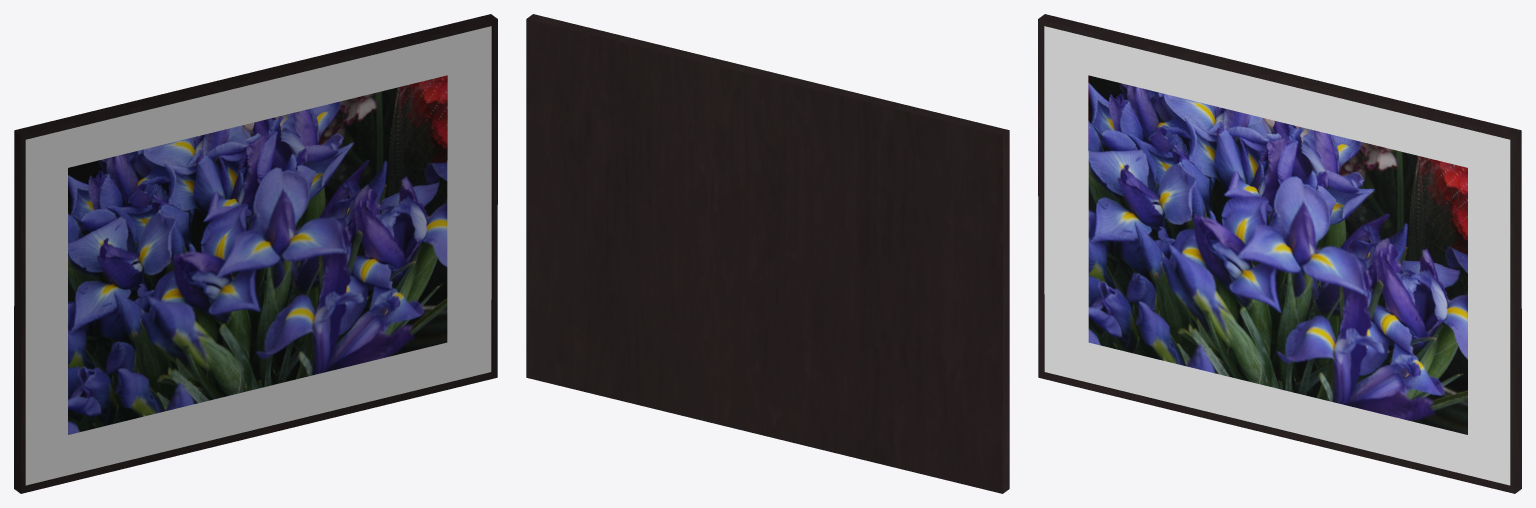
The model's file is Painting_a82939e9.obj.
3 views of the same model, side by side, from view 1: azimuth 30°, elevation 25°; view 2: azimuth 150°, elevation 25°; view 3: azimuth 330°, elevation 25° (orthographic).
Parts seen in each view (by area): view 1: FP216:Base18_c9af4eba; view 2: FP216:Base18_c9af4eba; view 3: FP216:Base18_c9af4eba.
Part boxes in pixels (bbox=[...]): FP216:Base18_c9af4eba: bbox=[14, 14, 497, 493]; FP216:Base18_c9af4eba: bbox=[526, 14, 1009, 493]; FP216:Base18_c9af4eba: bbox=[1038, 14, 1521, 493].
Size of the model in its own units: 1.17 by 0.8405 by 0.0298.
